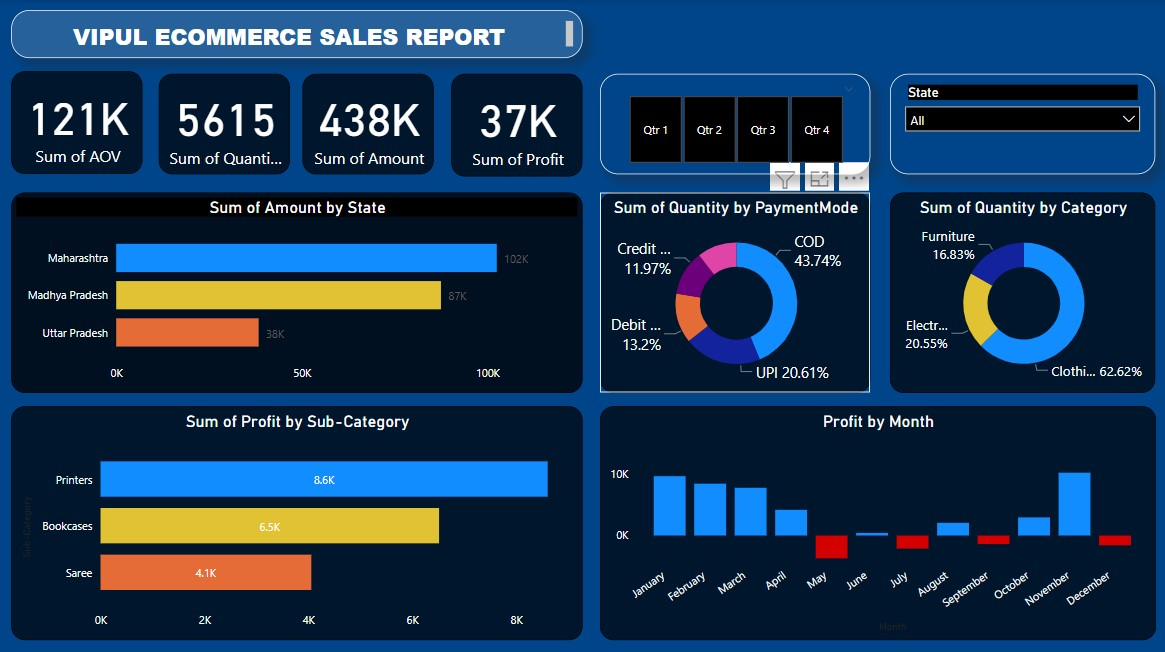

Layout of this report page (visuals, bound fields, positions):
{"tool":"powerbi","page":{"name":"Page 1","canvas":[1280,720],"ordinal":0},"visuals":[{"type":"textbox","box":[12.9,11.4,627.1,52.9],"z":0},{"type":"columnChart","title":"Profit by Month","fields":{"Category":["Orders.Order Date.Variation.Date Hierarchy.Month"],"Y":["Sum(Details.Profit)"]},"box":[658.6,445.7,610,257.1],"z":1000},{"type":"barChart","title":"Sum of Profit by Sub-Category","fields":{"Category":["Details.Sub-Category"],"Series":["Details.Sub-Category"],"Y":["Sum(Details.Profit)"]},"box":[12.9,445.7,627.1,257.1],"z":2000},{"type":"donutChart","fields":{"Category":["Details.Category"],"Y":["Sum(Details.Quantity)"]},"box":[977.1,211.4,291.4,220],"z":3000},{"type":"donutChart","fields":{"Category":["Details.PaymentMode"],"Y":["Sum(Details.Quantity)"]},"box":[658.6,211.4,297.1,220],"z":4000},{"type":"card","fields":{"Values":["Sum(Details.Amount)"]},"box":[331.4,81.4,144.3,110],"z":5000},{"type":"card","fields":{"Values":["Sum(Details.Quantity)"]},"box":[174.3,81.4,144.3,110],"z":6000},{"type":"card","fields":{"Values":["Sum(Details.Profit)"]},"box":[495.7,81.4,144.3,112.9],"z":7000},{"type":"card","fields":{"Values":["Sum(Details.AOV)"]},"box":[12.9,78.6,144.3,112.9],"z":8000},{"type":"barChart","title":"Sum of Amount by State","fields":{"Y":["Sum(Details.Amount)"],"Category":["Orders.State"]},"box":[12.9,211.4,627.1,220],"z":9000},{"type":"slicer","fields":{"Values":["Orders.Order Date.Variation.Date Hierarchy.Quarter"]},"box":[658.6,81.4,297.1,110],"z":10000},{"type":"slicer","fields":{"Values":["Orders.State"]},"box":[977.1,81.4,291.4,110],"z":11000}]}

Visuals, with their boxes in screenshot pixels (x1, y1, x2, y2), scaled from the page's 1280x720 canvas onto the 1165x652 screenshot:
textbox: {"x1": 12, "y1": 10, "x2": 582, "y2": 58}
"Profit by Month" columnChart: {"x1": 599, "y1": 404, "x2": 1155, "y2": 636}
"Sum of Profit by Sub-Category" barChart: {"x1": 12, "y1": 404, "x2": 582, "y2": 636}
donutChart - Details.Category x Sum(Details.Quantity): {"x1": 889, "y1": 191, "x2": 1155, "y2": 391}
donutChart - Details.PaymentMode x Sum(Details.Quantity): {"x1": 599, "y1": 191, "x2": 870, "y2": 391}
card - Sum(Details.Amount): {"x1": 302, "y1": 74, "x2": 433, "y2": 173}
card - Sum(Details.Quantity): {"x1": 159, "y1": 74, "x2": 290, "y2": 173}
card - Sum(Details.Profit): {"x1": 451, "y1": 74, "x2": 582, "y2": 176}
card - Sum(Details.AOV): {"x1": 12, "y1": 71, "x2": 143, "y2": 173}
"Sum of Amount by State" barChart: {"x1": 12, "y1": 191, "x2": 582, "y2": 391}
slicer - Orders.Order Date.Variation.Date Hierarchy.Quarter: {"x1": 599, "y1": 74, "x2": 870, "y2": 173}
slicer - Orders.State: {"x1": 889, "y1": 74, "x2": 1155, "y2": 173}
